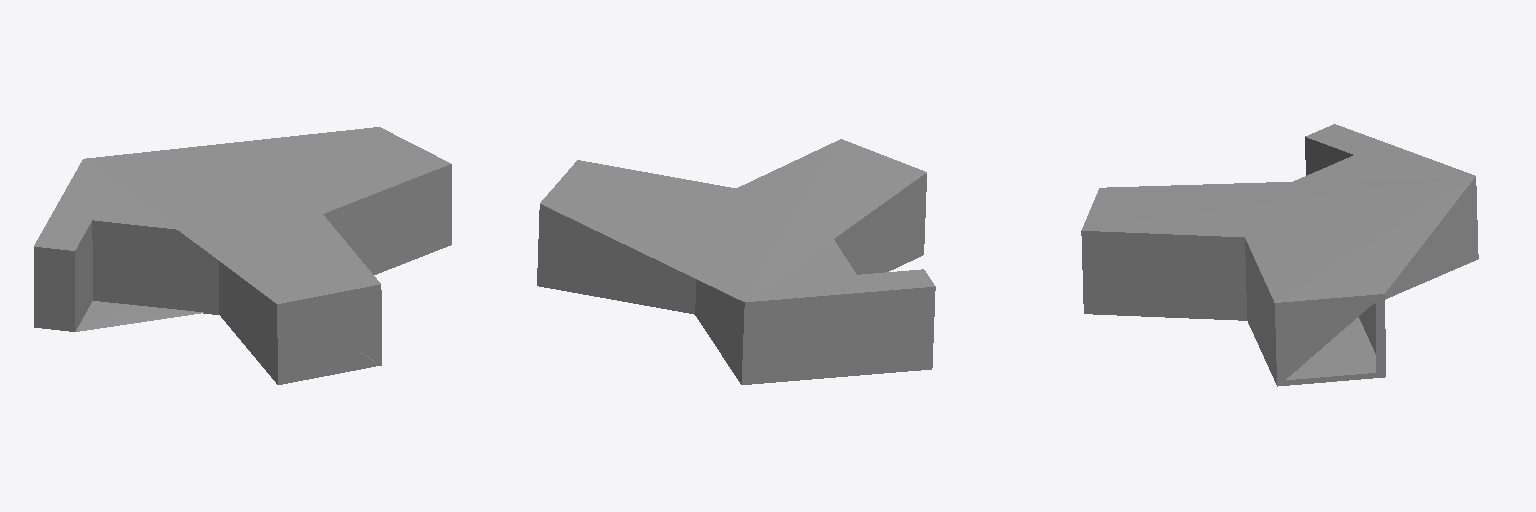
File: into.obj
3 renders of one model, left to right at view 1: azimuth 30°, elevation 25°; view 2: azimuth 150°, elevation 25°; view 3: azimuth 270°, elevation 25°, orthographic.
Parts seen in each view (by area): view 1: Cube; view 2: Cube; view 3: Cube.
Part boxes in pixels (x1,y1,x2,y2): Cube: (34,127,451,384); Cube: (537,139,935,384); Cube: (1081,124,1478,386).
Size of the model in its own units: 9.89 by 2.32 by 8.73.